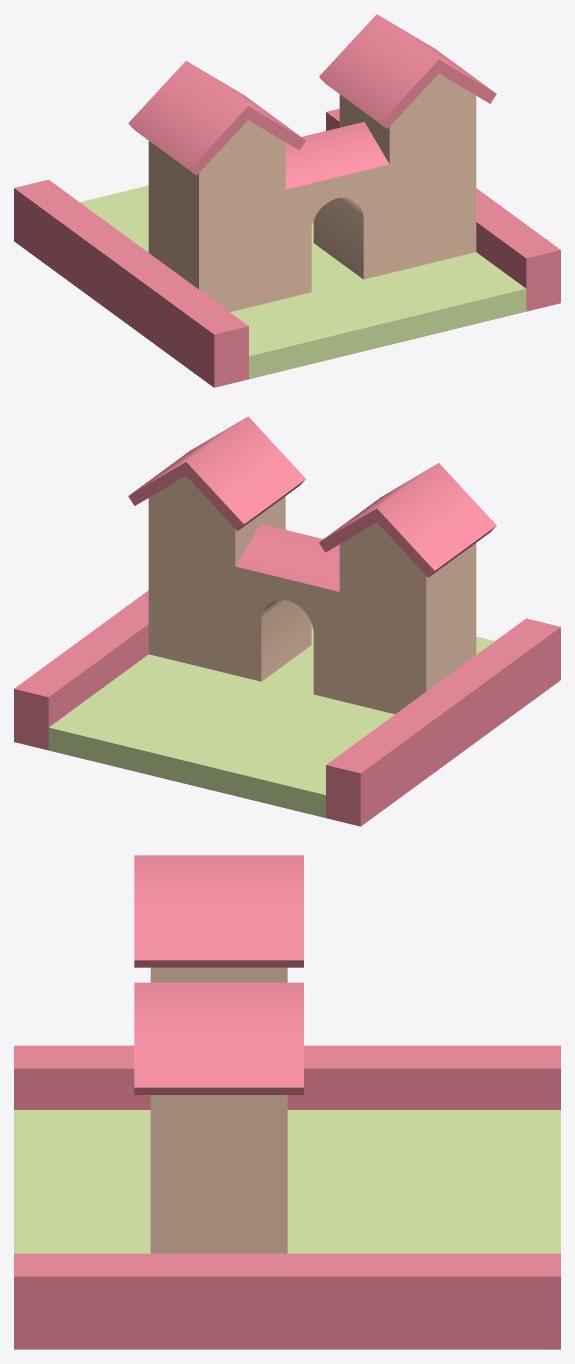
File: castle.fbx
The picture shows the model from 3 angles, top to bottom: view 1: azimuth 30°, elevation 25°; view 2: azimuth 150°, elevation 25°; view 3: azimuth 270°, elevation 25°; orthographic projection. The views are drawn at different scales.
Visible parts, largest first — view 1: castle; view 2: castle; view 3: castle.
Boxes of the visible parts, <box> form: castle: <box>14,14,560,387</box>; castle: <box>14,416,560,826</box>; castle: <box>14,855,560,1349</box>.
Size of the model in its own units: 99.99 by 63.5 by 99.99.
